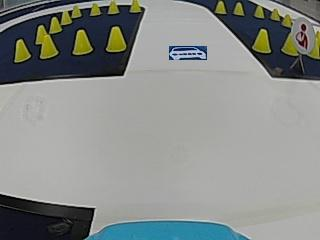cone: (72, 29, 93, 55), (105, 26, 126, 52), (39, 31, 58, 58), (252, 28, 271, 54), (47, 217, 73, 234), (14, 38, 30, 62), (282, 31, 298, 55), (49, 16, 62, 32), (214, 1, 227, 14), (129, 0, 141, 13), (89, 3, 101, 16), (107, 1, 119, 14), (61, 10, 72, 24), (281, 13, 292, 27), (233, 2, 244, 15), (254, 5, 264, 18), (71, 5, 81, 17), (270, 8, 279, 20)
patient: (292, 17, 315, 48)
